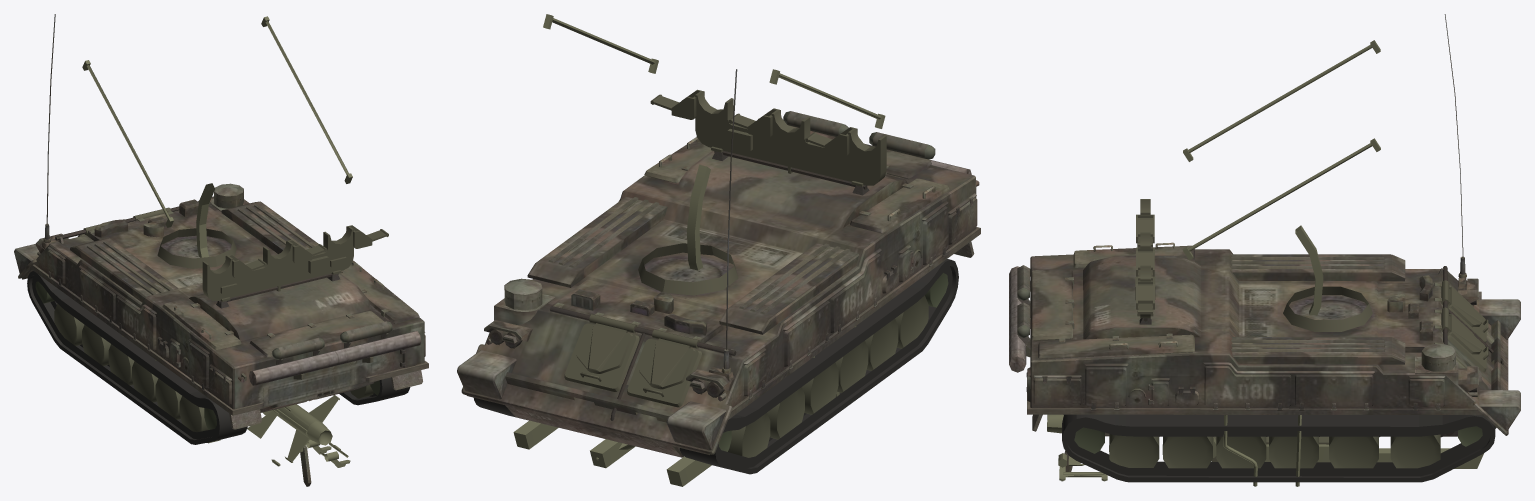
Rendered from kub.glb.
3 views of the same model, side by side, from view 1: azimuth 30°, elevation 25°; view 2: azimuth 150°, elevation 25°; view 3: azimuth 270°, elevation 25° (orthographic). The views are drawn at different scales.
Visible parts, largest first — view 1: body|Material__26, body|Material__30, body|Material__31, body|Material__29, missile|Material__25 (×2), body|Material__25, body|Material__32, body|Material__36; view 2: body|Material__26, body|Material__30, body|Material__31, body|Material__29, body|Material__33, body|Material__34, body|Material__25, cradle|Material__25, body|Material__32, body|Material__36; view 3: body|Material__26, body|Material__30, body|Material__29, body|Material__25, body|Material__31, body|Material__32, body|Material__33, cradle|Material__25, body|Material__34, body|Material__36.
Boxes of the visible parts, x1=… form: body|Material__26: x1=14, y1=14, x2=428, y2=429; body|Material__30: x1=27, y1=271, x2=410, y2=444; body|Material__31: x1=202, y1=225, x2=388, y2=301; body|Material__29: x1=54, y1=303, x2=373, y2=432; missile|Material__25 (×2): x1=207, y1=395, x2=350, y2=467; body|Material__25: x1=82, y1=16, x2=352, y2=257; body|Material__32: x1=157, y1=228, x2=236, y2=268; body|Material__36: x1=35, y1=281, x2=380, y2=429; body|Material__26: x1=457, y1=69, x2=980, y2=457; body|Material__30: x1=474, y1=259, x2=958, y2=474; body|Material__31: x1=650, y1=89, x2=886, y2=186; body|Material__29: x1=728, y1=295, x2=928, y2=457; body|Material__33: x1=564, y1=314, x2=639, y2=391; body|Material__34: x1=627, y1=329, x2=701, y2=407; body|Material__25: x1=543, y1=14, x2=885, y2=270; cradle|Material__25: x1=513, y1=326, x2=856, y2=486; body|Material__32: x1=638, y1=243, x2=738, y2=295; body|Material__36: x1=719, y1=273, x2=948, y2=451; body|Material__26: x1=1009, y1=14, x2=1520, y2=437; body|Material__30: x1=1062, y1=414, x2=1495, y2=482; body|Material__29: x1=1109, y1=434, x2=1440, y2=468; body|Material__25: x1=1183, y1=40, x2=1380, y2=315; body|Material__31: x1=1135, y1=199, x2=1155, y2=318; body|Material__32: x1=1283, y1=286, x2=1372, y2=331; body|Material__33: x1=1441, y1=307, x2=1488, y2=372; cradle|Material__25: x1=1223, y1=415, x2=1483, y2=486; body|Material__34: x1=1441, y1=280, x2=1488, y2=342; body|Material__36: x1=1074, y1=426, x2=1482, y2=453.
Size of the model in its own units: 3.53 by 6 by 6.71.
Materials: 17 (4 with a texture image).
